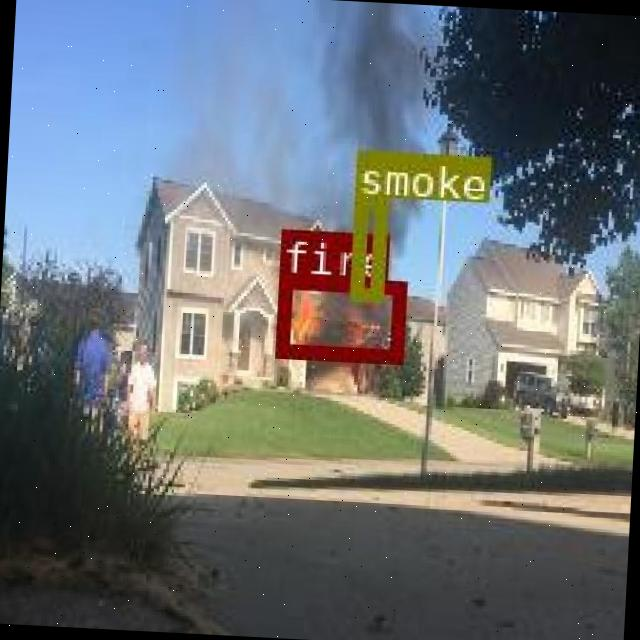fire: (273, 272, 404, 360)
smoke: (349, 194, 386, 300)
